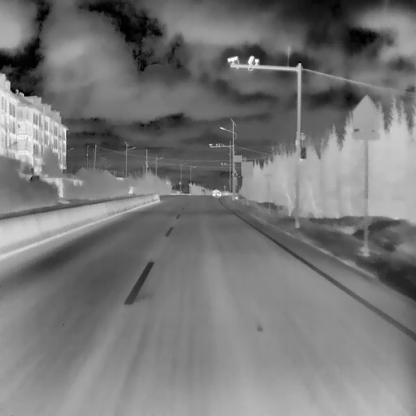car: (211, 186, 221, 196)
